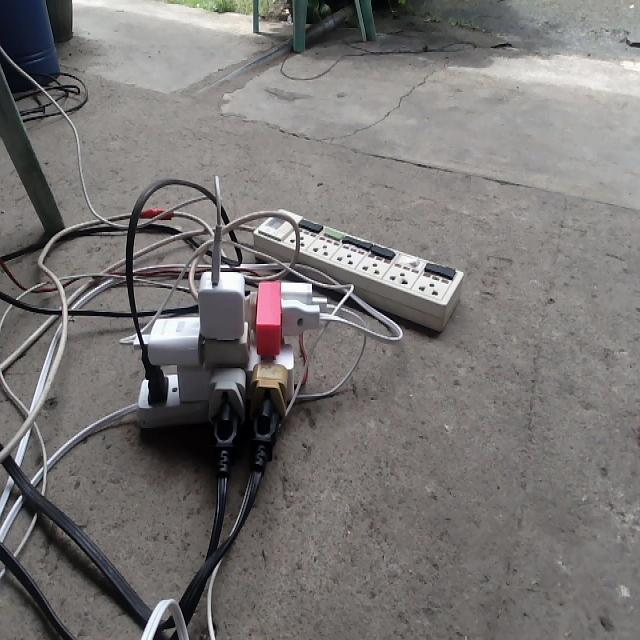-: (126, 263, 327, 448)
